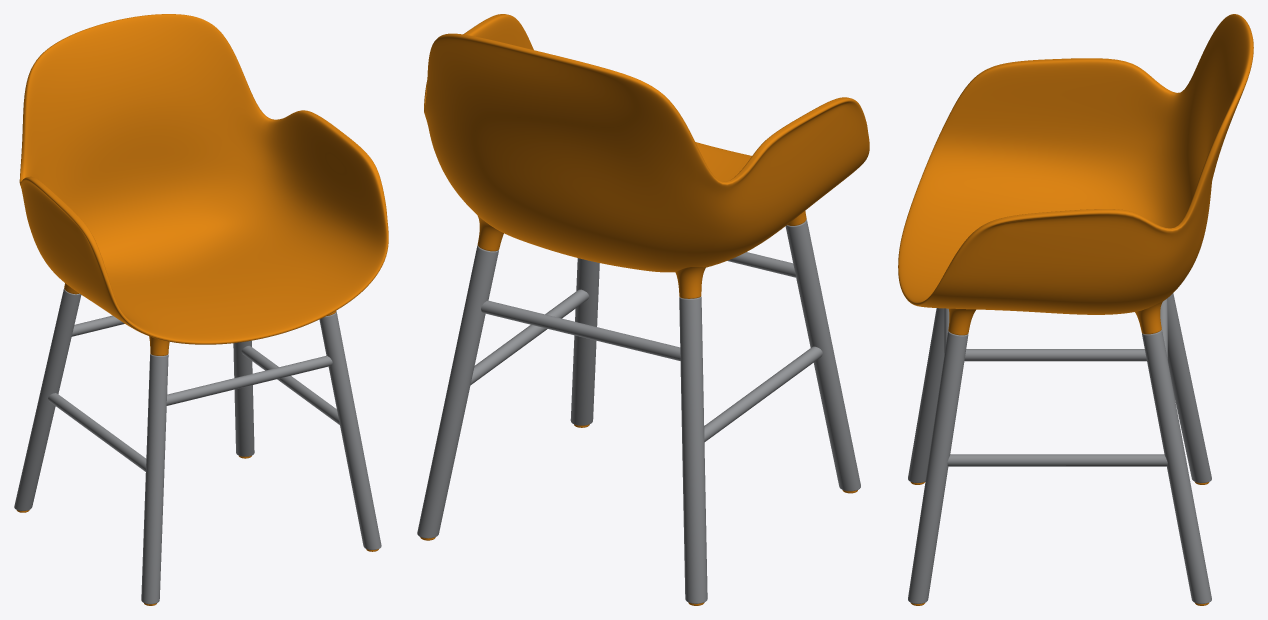
Rendered from silla.glb.
The picture shows the model from 3 angles, left to right: view 1: azimuth 30°, elevation 25°; view 2: azimuth 150°, elevation 25°; view 3: azimuth 270°, elevation 25°; orthographic projection. The views are drawn at different scales.
Parts seen in each view (by area): view 1: Form Armchair; view 2: Form Armchair; view 3: Form Armchair.
Part boxes in pixels (x1,y1,x2,y2): Form Armchair: [14, 14, 388, 605]; Form Armchair: [417, 14, 869, 605]; Form Armchair: [898, 14, 1253, 605].
Size of the model in its own units: 0.5421 by 0.7967 by 0.5166.
